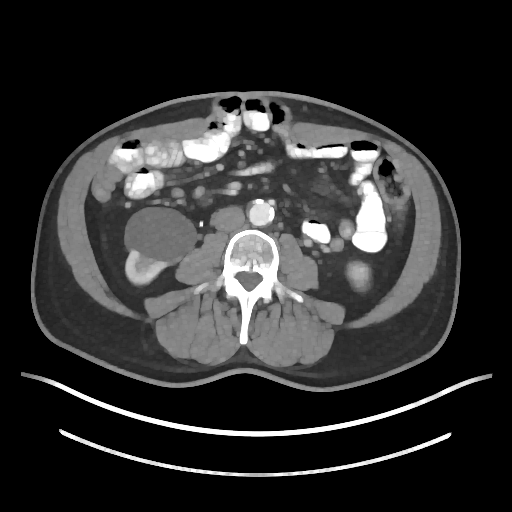Lesion: (124, 208, 198, 259)
